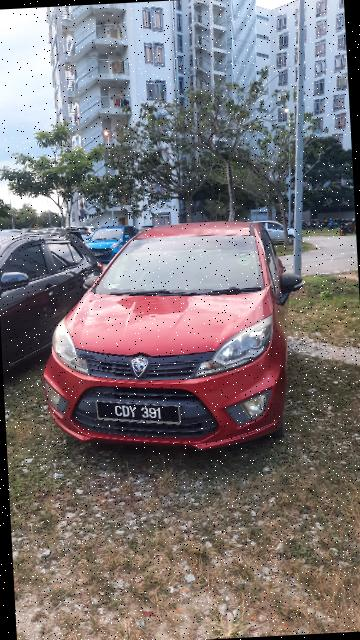License_Plate: (93, 393, 186, 432)
car: (33, 211, 318, 472)
